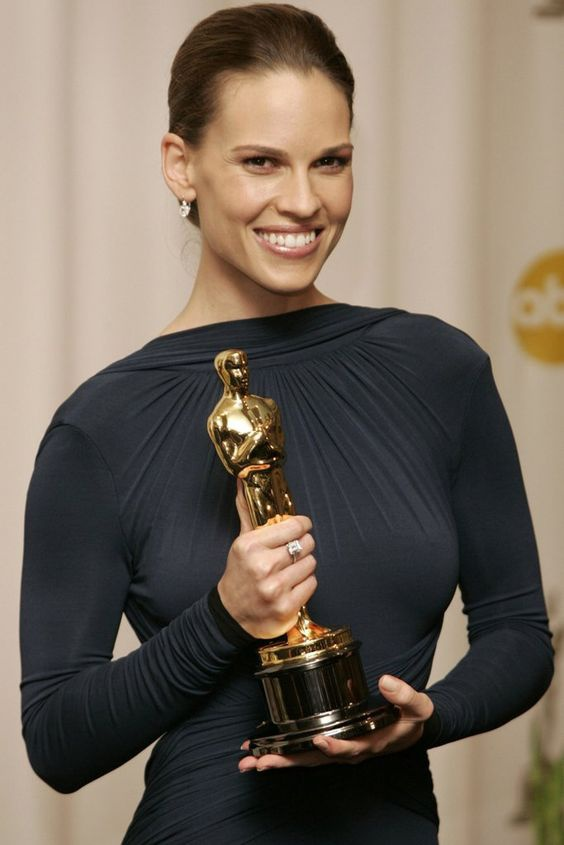hand: (246, 680, 422, 762)
